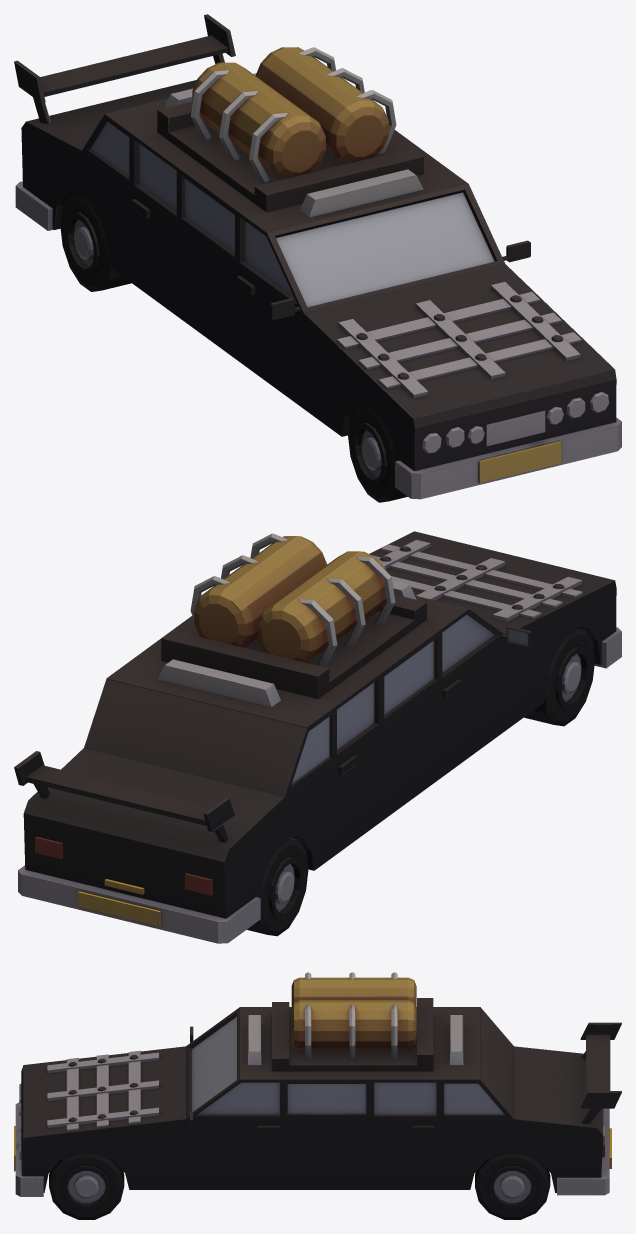
Rendered from GovCar.fbx.
3 views of the same model, one above another, from view 1: azimuth 30°, elevation 25°; view 2: azimuth 150°, elevation 25°; view 3: azimuth 270°, elevation 25° (orthographic). The views are drawn at different scales.
Parts seen in each view (by area): view 1: CarBody, Wheels; view 2: CarBody, Wheels; view 3: CarBody, Wheels.
Part boxes in pixels (<box>): CarBody: <box>14,14,621,499</box>; Wheels: <box>60,193,407,502</box>; CarBody: <box>14,531,621,943</box>; Wheels: <box>247,628,595,936</box>; CarBody: <box>14,972,621,1196</box>; Wheels: <box>49,1152,550,1219</box>.
Bounding box in the file's own units: 136 × 132 × 374.
